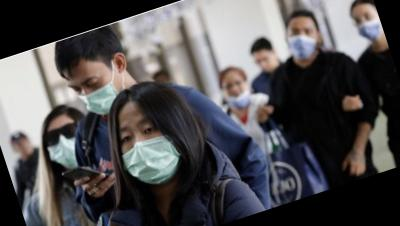mask_weared_incorrect: (219, 75, 255, 113)
with_mask: (109, 105, 190, 194), (40, 115, 93, 175), (283, 18, 324, 61), (351, 6, 385, 45)
without_mask: (252, 48, 280, 76)
